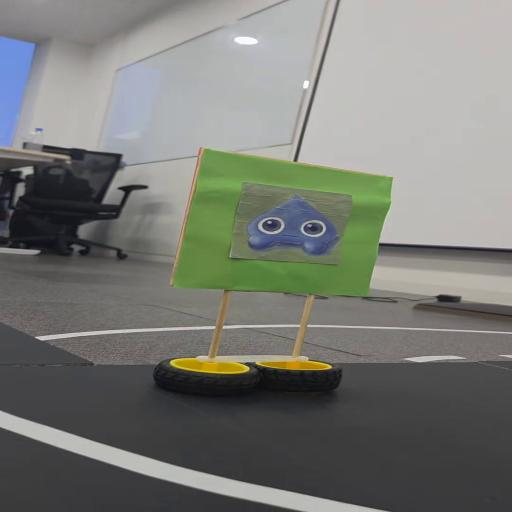Sign_B: (171, 146, 386, 398)
